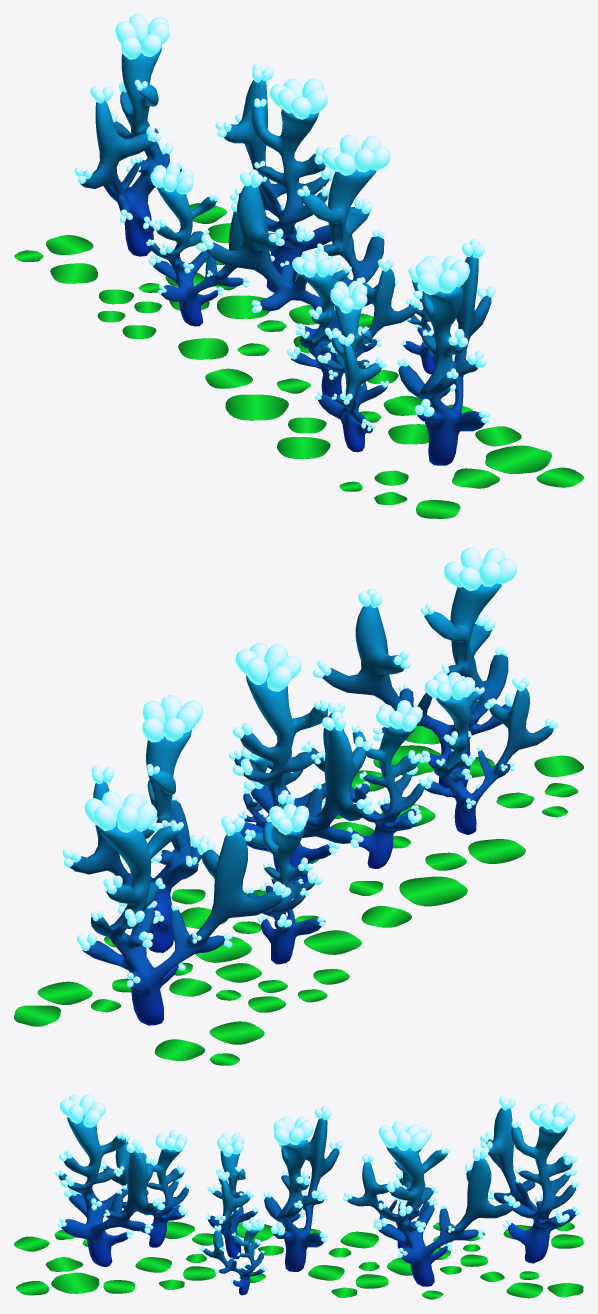
The model's file is Plante Aqua D 3X1 F.fbx.
The picture shows the model from 3 angles, top to bottom: view 1: azimuth 30°, elevation 25°; view 2: azimuth 150°, elevation 25°; view 3: azimuth 270°, elevation 25°; orthographic projection. The views are drawn at different scales.
Visible parts, largest first — view 1: Cube.014; view 2: Cube.014; view 3: Cube.014.
Boxes of the visible parts, bbox=[...] form: Cube.014: bbox=[14, 14, 583, 518]; Cube.014: bbox=[14, 547, 583, 1065]; Cube.014: bbox=[14, 1094, 583, 1299].
Size of the model in its own units: 190 by 183 by 589.
Materials: 35 (27 with a texture image).
